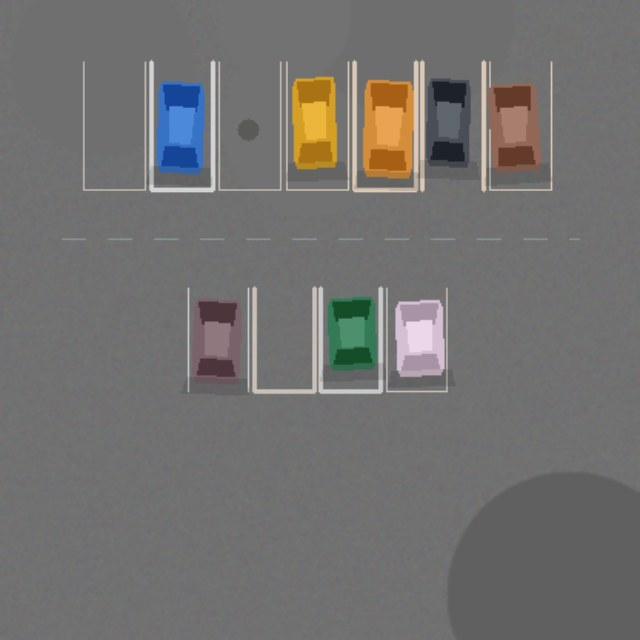space-empty: (83, 62, 145, 189), (218, 62, 280, 189), (254, 288, 314, 391)
space-occupied: (286, 62, 348, 189), (489, 62, 551, 189), (151, 62, 212, 189), (354, 62, 415, 189), (422, 62, 483, 189), (188, 288, 248, 391), (320, 288, 380, 391), (386, 288, 446, 391)
